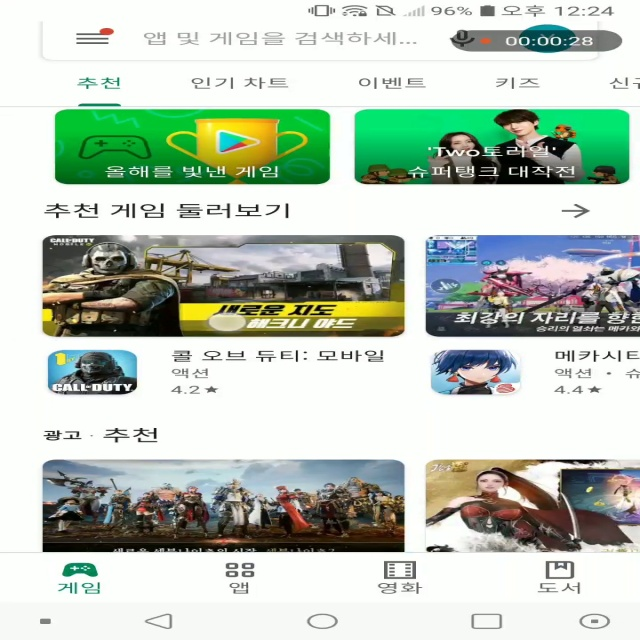Cursor: (207, 311, 251, 333)
